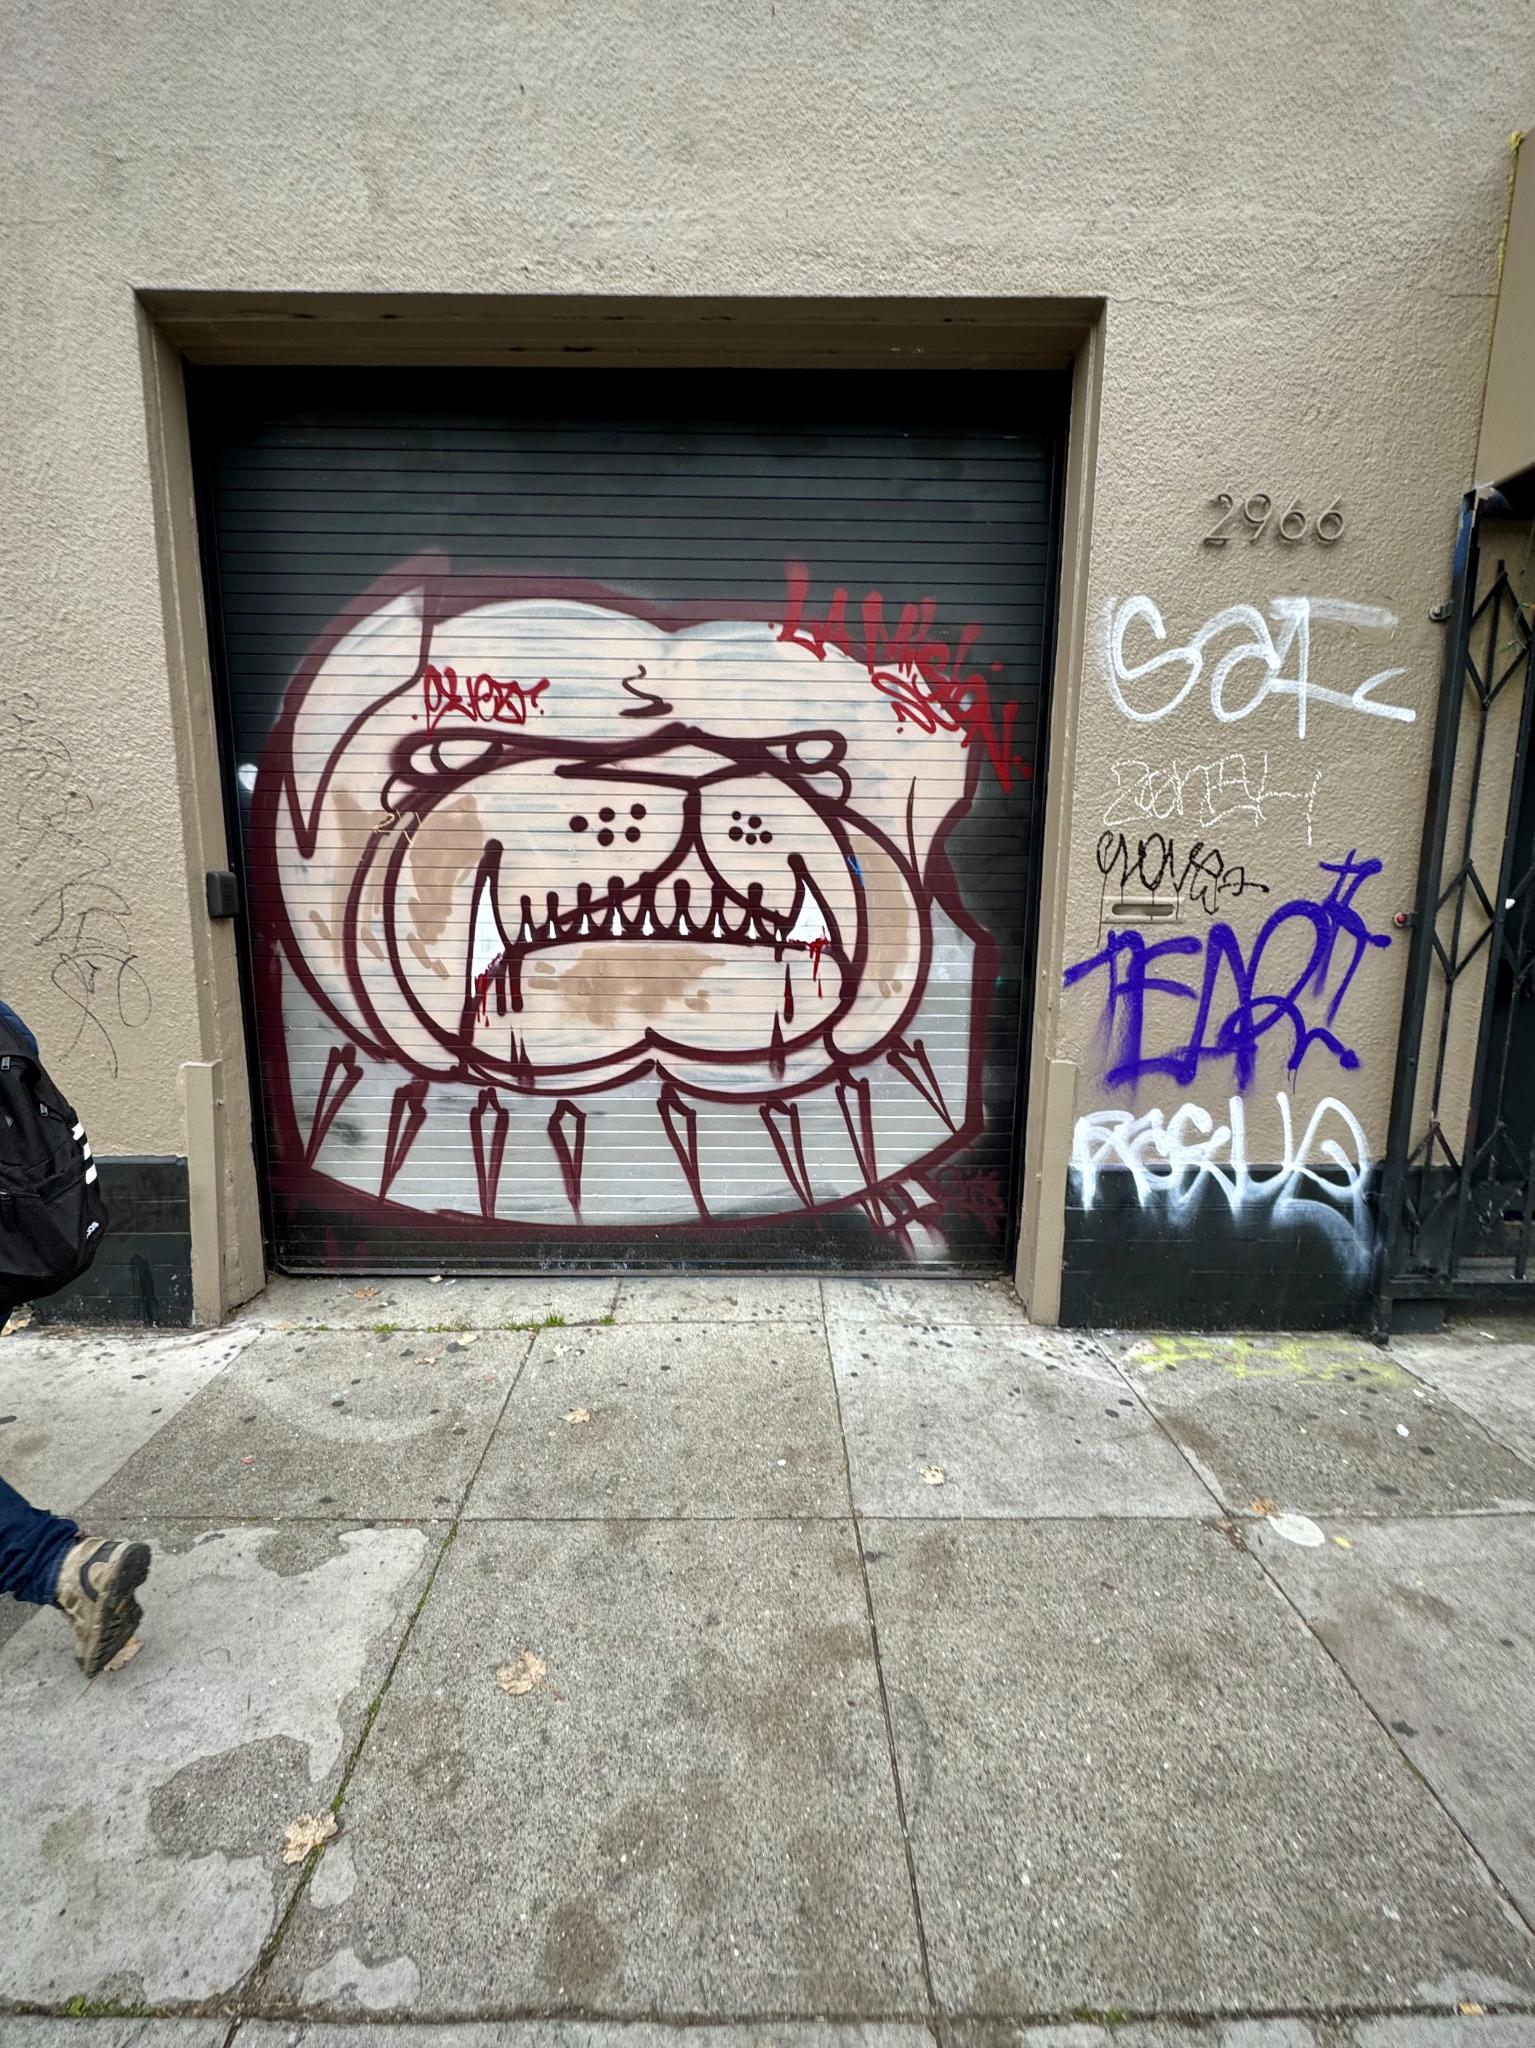graffiti: (234, 555, 1034, 1279), (1100, 592, 1427, 1317)
